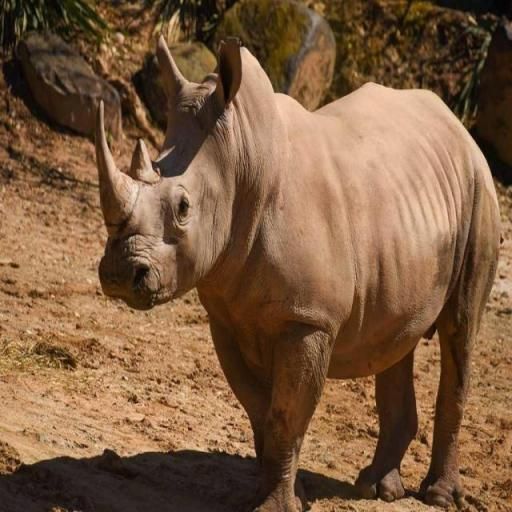Rhino: (93, 30, 504, 512)
